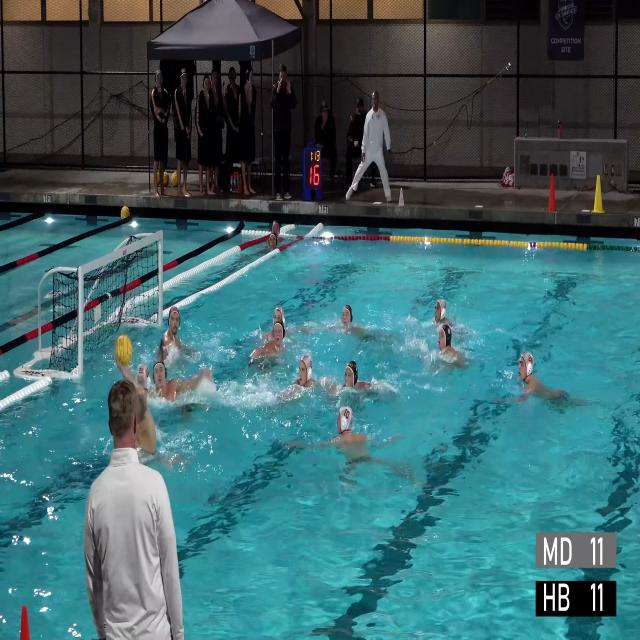ball: (115, 335, 132, 365), (121, 206, 130, 219), (152, 172, 160, 186), (163, 171, 170, 187), (172, 171, 178, 186)
